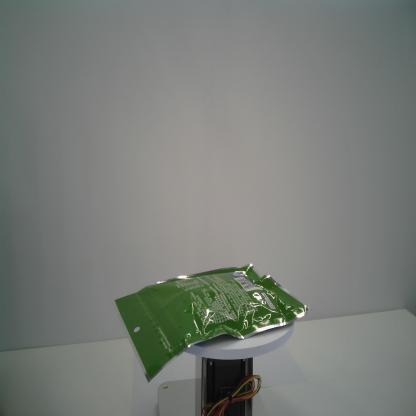Dried Fruit: (112, 262, 312, 384)
